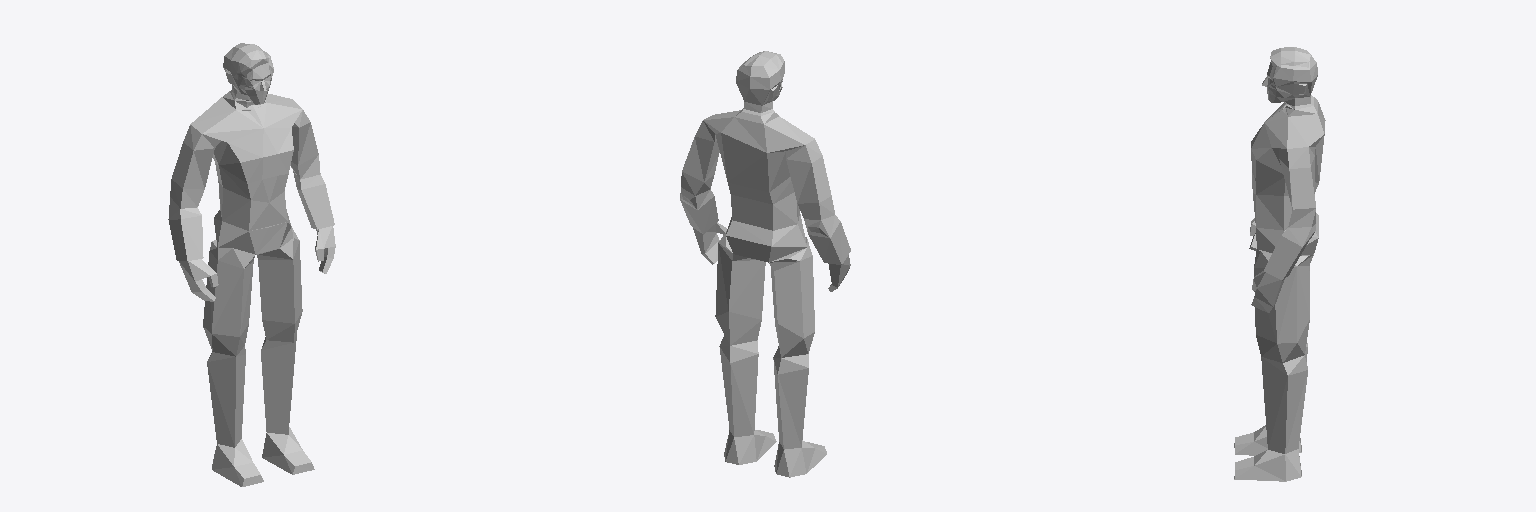
File: Manuel8.obj
The picture shows the model from 3 angles: view 1: azimuth 30°, elevation 25°; view 2: azimuth 150°, elevation 25°; view 3: azimuth 270°, elevation 25°; orthographic projection.
Parts seen in each view (by area): view 1: leon; view 2: leon; view 3: leon.
Part boxes in pixels (bbox=[...]): leon: bbox=[168, 43, 335, 486]; leon: bbox=[680, 51, 850, 477]; leon: bbox=[1234, 47, 1325, 481].
Size of the model in its own units: 4.74 by 12.18 by 2.44.